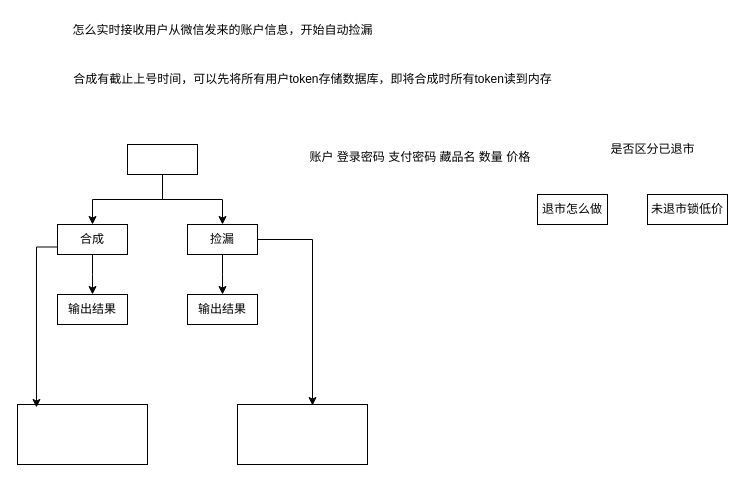
Image size: 745x482. Some labels were removed from this diagram. Each missing label, with the box of its shape:
利用线程池，处理完一个用户，再处理下一个用户: (236, 404, 368, 464)
登录: (126, 144, 198, 174)
遍历所有用户token，循环请求合成接口，多线程请求？: (16, 404, 148, 464)
